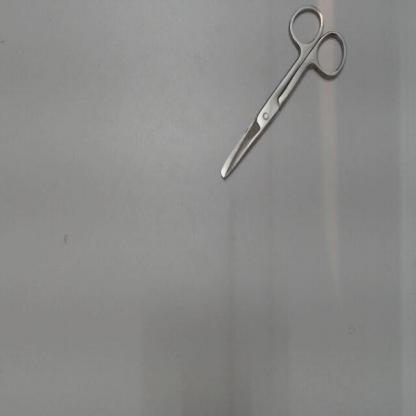Dressing Scissors: (210, 1, 354, 190)
